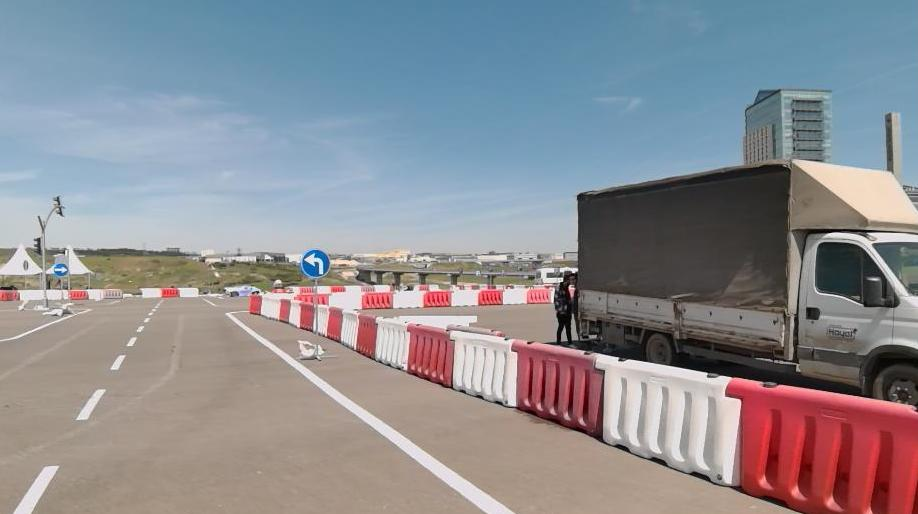nesne: (0, 291, 514, 512), (13, 295, 514, 510), (571, 157, 917, 405), (226, 314, 513, 512), (0, 295, 163, 513), (727, 377, 917, 512), (596, 353, 738, 487), (511, 338, 604, 434), (450, 330, 517, 406), (33, 194, 63, 306), (406, 322, 454, 387), (12, 465, 58, 513), (374, 316, 410, 368), (553, 269, 574, 343), (356, 314, 377, 359), (76, 388, 105, 420), (302, 249, 330, 278), (329, 290, 363, 311), (340, 308, 357, 348), (393, 288, 422, 309), (362, 291, 393, 310), (327, 306, 342, 341), (423, 289, 452, 307), (298, 340, 324, 360), (312, 304, 327, 335), (298, 301, 313, 331), (478, 287, 503, 305), (452, 289, 478, 306), (260, 296, 278, 320), (503, 287, 527, 304), (527, 287, 551, 303), (288, 299, 301, 328), (297, 294, 330, 305), (278, 298, 290, 322), (19, 288, 41, 300), (46, 290, 69, 300), (110, 354, 125, 369), (53, 263, 68, 278), (69, 288, 89, 299), (86, 289, 103, 299), (127, 336, 137, 346), (135, 325, 145, 332)
